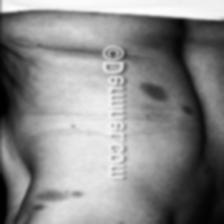Toxin: (136, 81, 166, 105), (34, 190, 79, 205), (179, 110, 193, 116)
